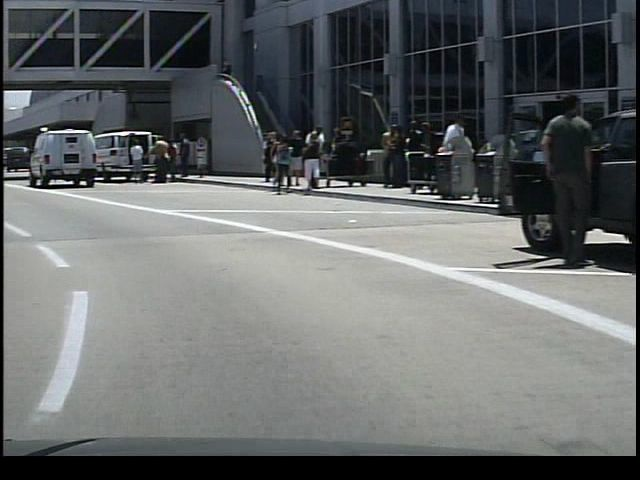person: (525, 85, 595, 272), (429, 109, 466, 201), (301, 123, 327, 189), (295, 139, 318, 192), (146, 134, 167, 186), (168, 131, 190, 179), (256, 126, 272, 186), (125, 135, 143, 186)
